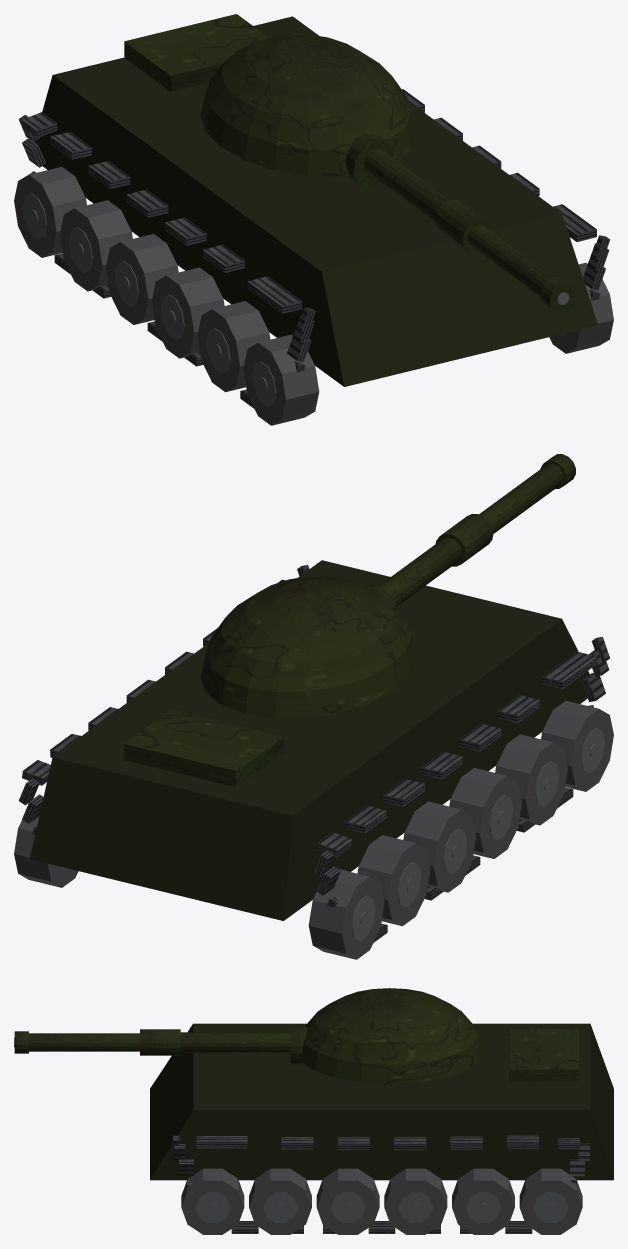
File: bulwark_LOD2.glb
3 views of the same model, one above another, from view 1: azimuth 30°, elevation 25°; view 2: azimuth 150°, elevation 25°; view 3: azimuth 270°, elevation 25° (orthographic). The views are drawn at different scales.
Visible parts, largest first — view 1: HullMesh, Wheels_L, TurretMesh, TrackL, TrackR, Gun_tube2, Gun_tube1, Wheels_R, Gun_ext, Gun_brk; view 2: HullMesh, Wheels_L, TurretMesh, TrackL, Gun_tube1, TrackR, Gun_tube2, Wheels_R, Gun_ext; view 3: HullMesh, Wheels_R, TurretMesh, TrackR, Gun_tube1, Gun_tube2, Gun_ext.
Boxes of the visible parts, x1,y1,x2,y2 form: HullMesh: [34, 14, 597, 386]; Wheels_L: [14, 166, 319, 425]; TurretMesh: [200, 34, 416, 188]; TrackL: [18, 112, 315, 408]; TrackR: [402, 89, 610, 300]; Gun_tube2: [467, 225, 573, 309]; Gun_tube1: [364, 149, 450, 221]; Wheels_R: [549, 262, 613, 353]; Gun_ext: [435, 200, 493, 252]; Gun_brk: [540, 277, 575, 312]; HullMesh: [29, 560, 589, 920]; Wheels_L: [308, 700, 613, 959]; TurretMesh: [200, 576, 416, 718]; TrackL: [313, 637, 609, 942]; Gun_tube1: [378, 537, 462, 606]; TrackR: [18, 565, 309, 834]; Gun_tube2: [479, 463, 563, 533]; Wheels_R: [14, 816, 78, 887]; Gun_ext: [435, 514, 493, 566]; HullMesh: [150, 1023, 613, 1180]; Wheels_R: [181, 1168, 582, 1234]; TurretMesh: [290, 988, 483, 1083]; TrackR: [173, 1135, 589, 1233]; Gun_tube1: [180, 1032, 290, 1052]; Gun_tube2: [29, 1033, 139, 1051]; Gun_ext: [140, 1029, 180, 1055].
Size of the model in its own units: 3.59 by 2.54 by 7.63.
Materials: 5 (3 with a texture image).
